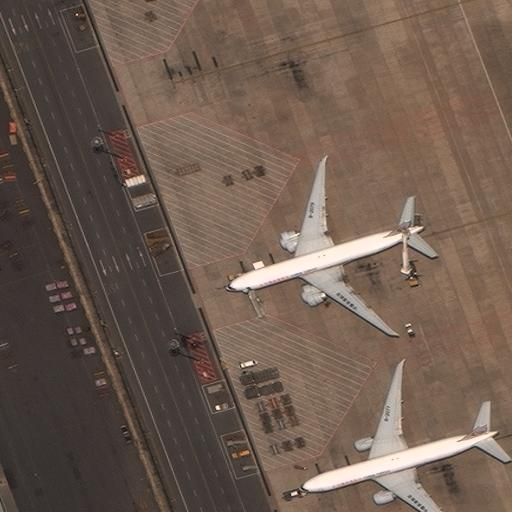Large Civil Transport: (225, 154, 422, 333), (297, 362, 497, 511)
